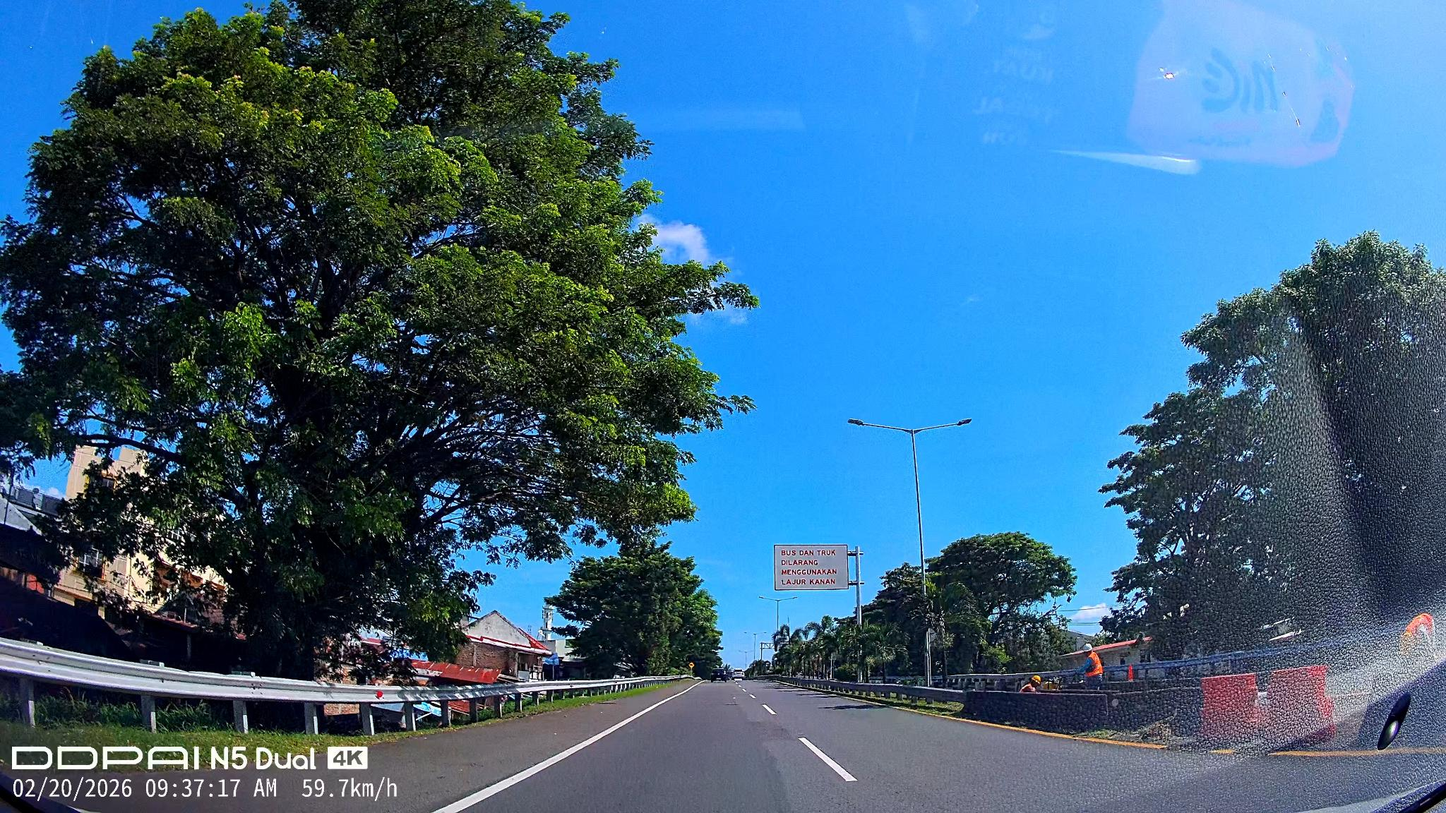rambu_teks: (773, 544, 850, 591)
